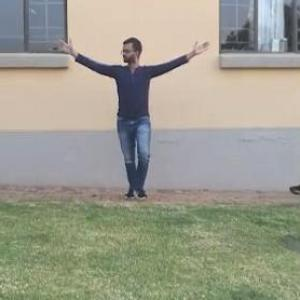takeoff: (56, 32, 205, 192)
